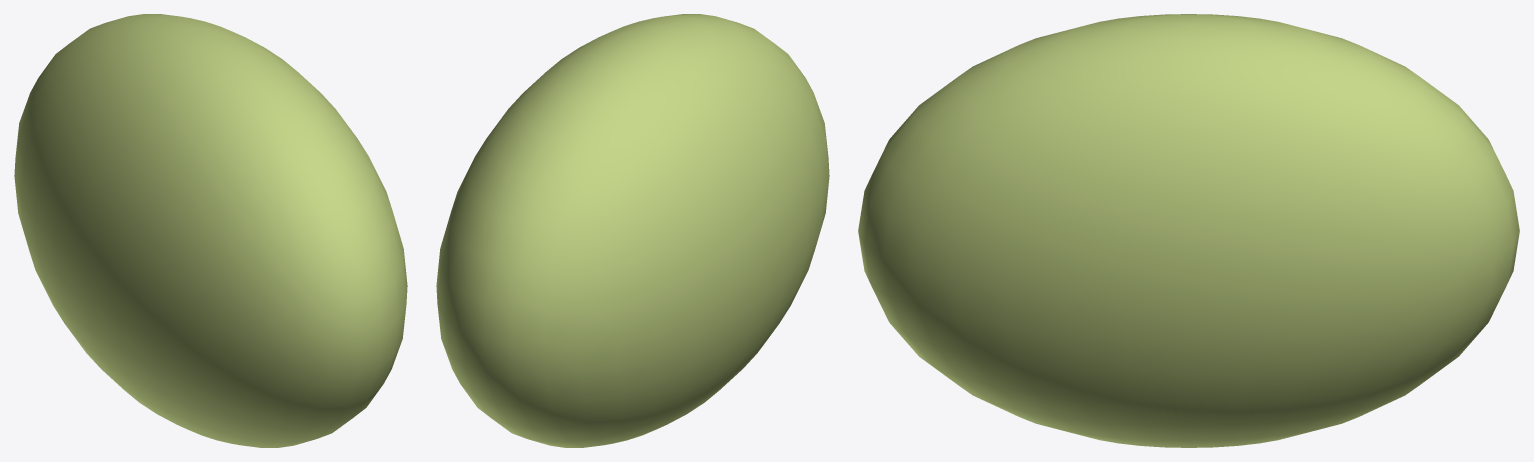
Rendered from base_oeuf_fourmi.dae.
The picture shows the model from 3 angles, left to right: view 1: azimuth 30°, elevation 25°; view 2: azimuth 150°, elevation 25°; view 3: azimuth 270°, elevation 25°; orthographic projection. The views are drawn at different scales.
Visible parts, largest first — view 1: Sphere; view 2: Sphere; view 3: Sphere.
Boxes of the visible parts, left/top/right/bottom form: Sphere: left=14, top=14, right=407, bottom=447; Sphere: left=436, top=14, right=829, bottom=447; Sphere: left=858, top=14, right=1519, bottom=447.
Size of the model in its own units: 1.85 by 3.7 by 2.54.
